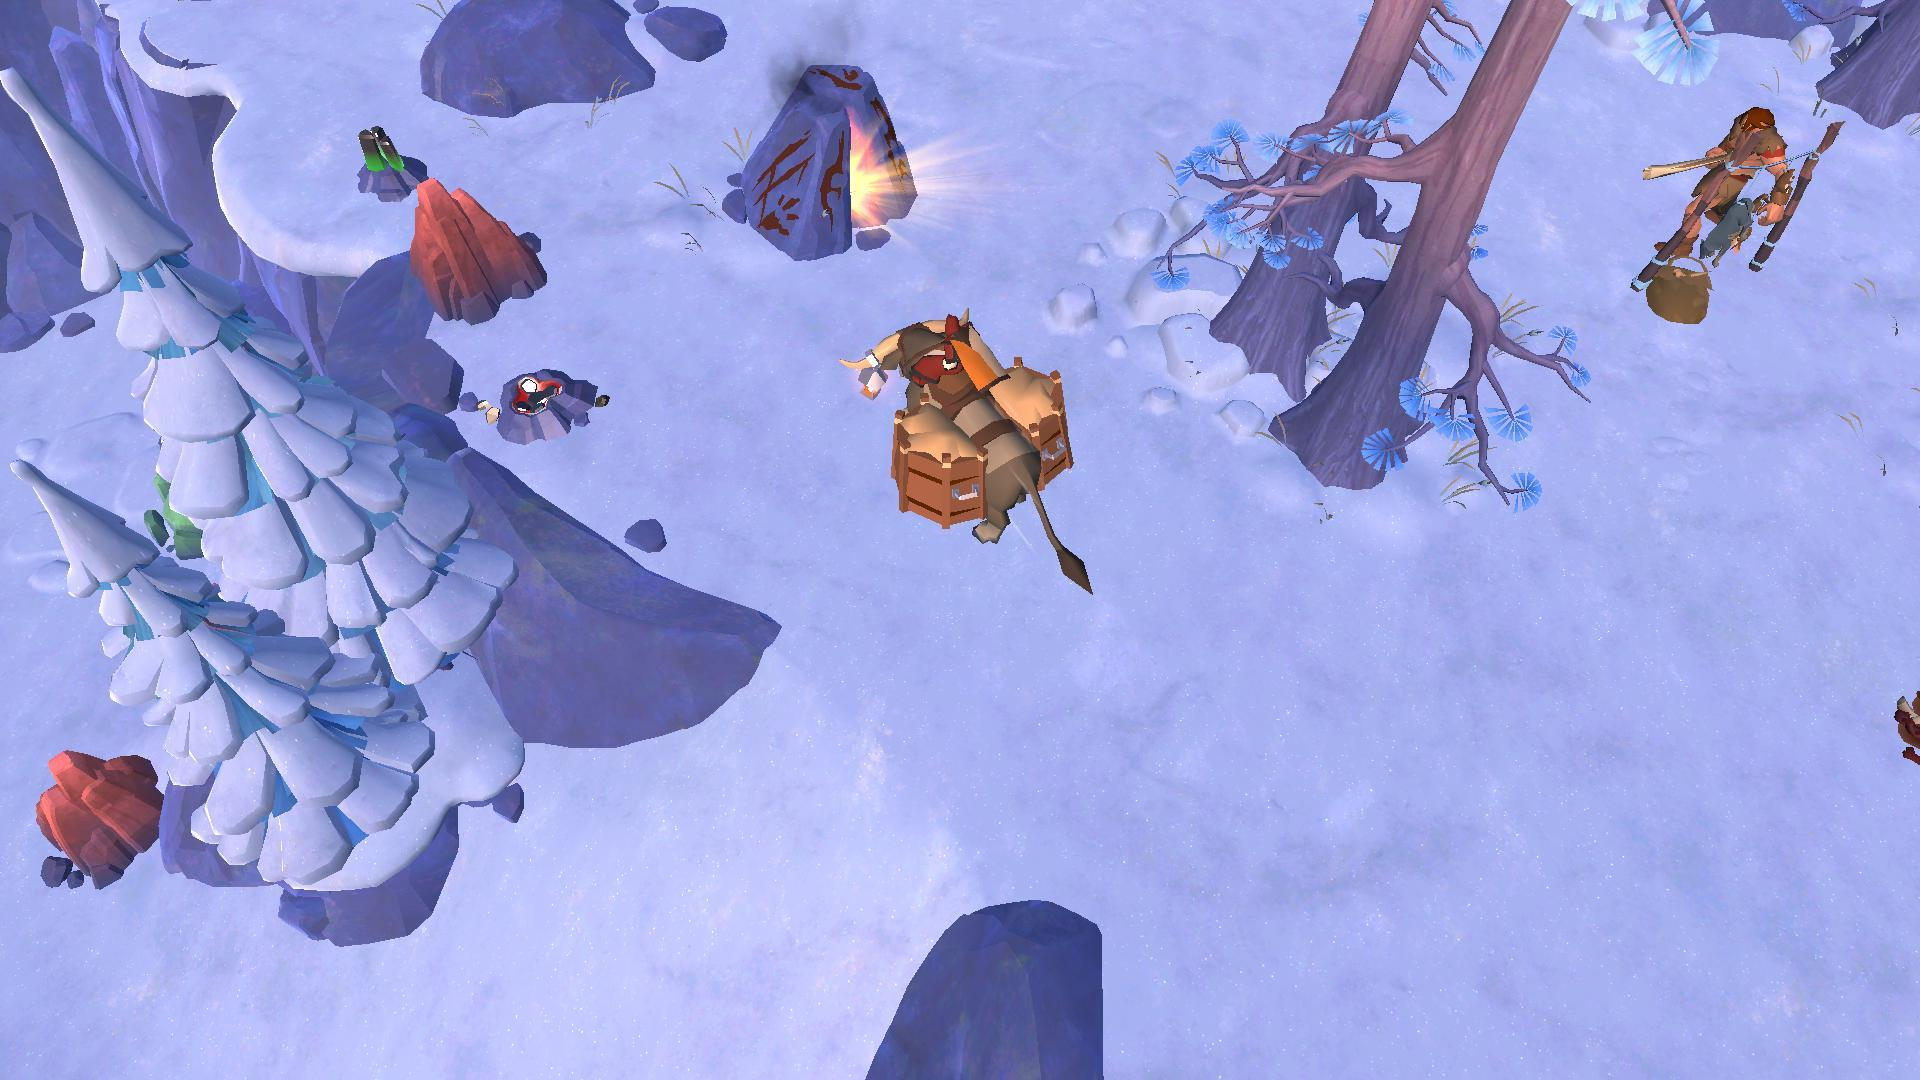enemy_factionKeeper: (1652, 96, 1791, 264)
ore_t3: (356, 116, 407, 178)
rock_t5: (24, 741, 173, 885), (401, 173, 551, 314)
